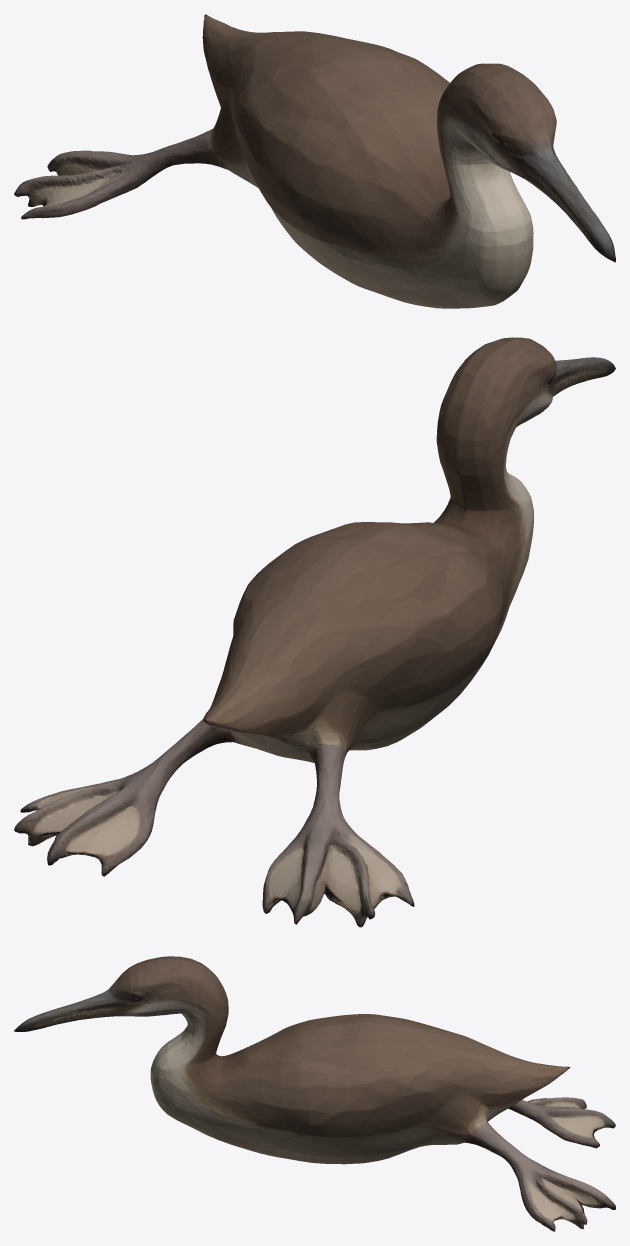
3 renders of one model, top to bottom at view 1: azimuth 30°, elevation 25°; view 2: azimuth 150°, elevation 25°; view 3: azimuth 270°, elevation 25°, orthographic. The views are drawn at different scales.
Parts seen in each view (by area): view 1: world; view 2: world; view 3: world.
Part boxes in pixels (<box>): world: <box>14,14,615,308</box>; world: <box>14,337,615,927</box>; world: <box>14,956,615,1231</box>.
Size of the model in its own units: 0.8172 by 0.6339 by 1.6.
1 material, 1 textured.
